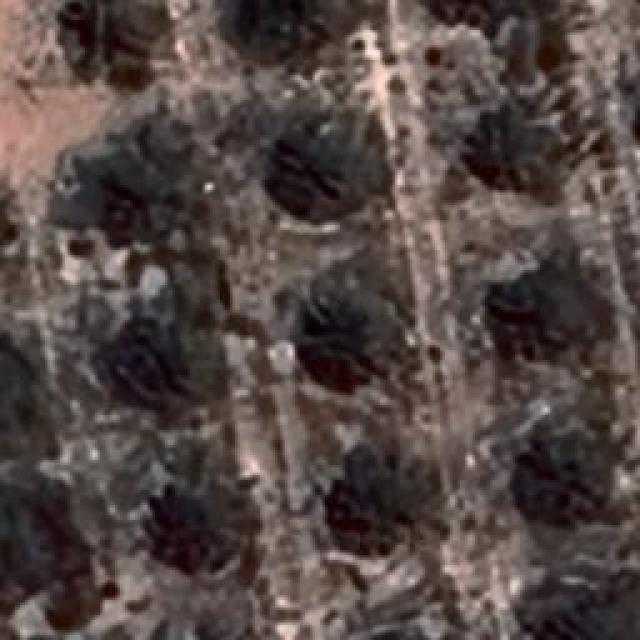PalmTree: (75, 38, 580, 621), (27, 104, 75, 542), (142, 480, 235, 588), (284, 109, 378, 209), (304, 279, 384, 379), (500, 274, 588, 354), (328, 464, 410, 546), (529, 432, 599, 526), (478, 101, 552, 181), (76, 0, 156, 62), (80, 160, 150, 222), (111, 324, 174, 392), (0, 339, 45, 434), (242, 0, 332, 40), (422, 0, 522, 31), (0, 176, 23, 261), (0, 172, 17, 260), (0, 173, 11, 260)
